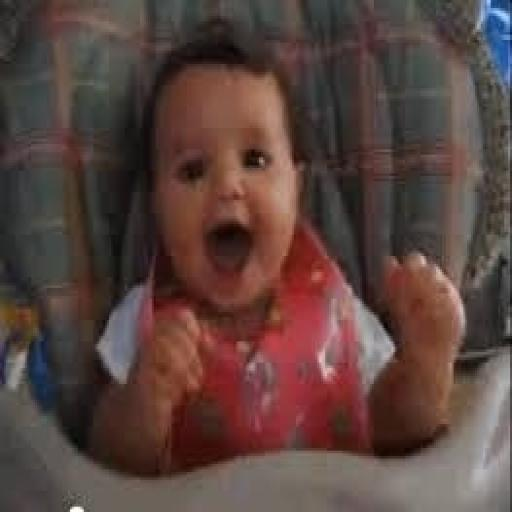laughing: (74, 18, 467, 474)
